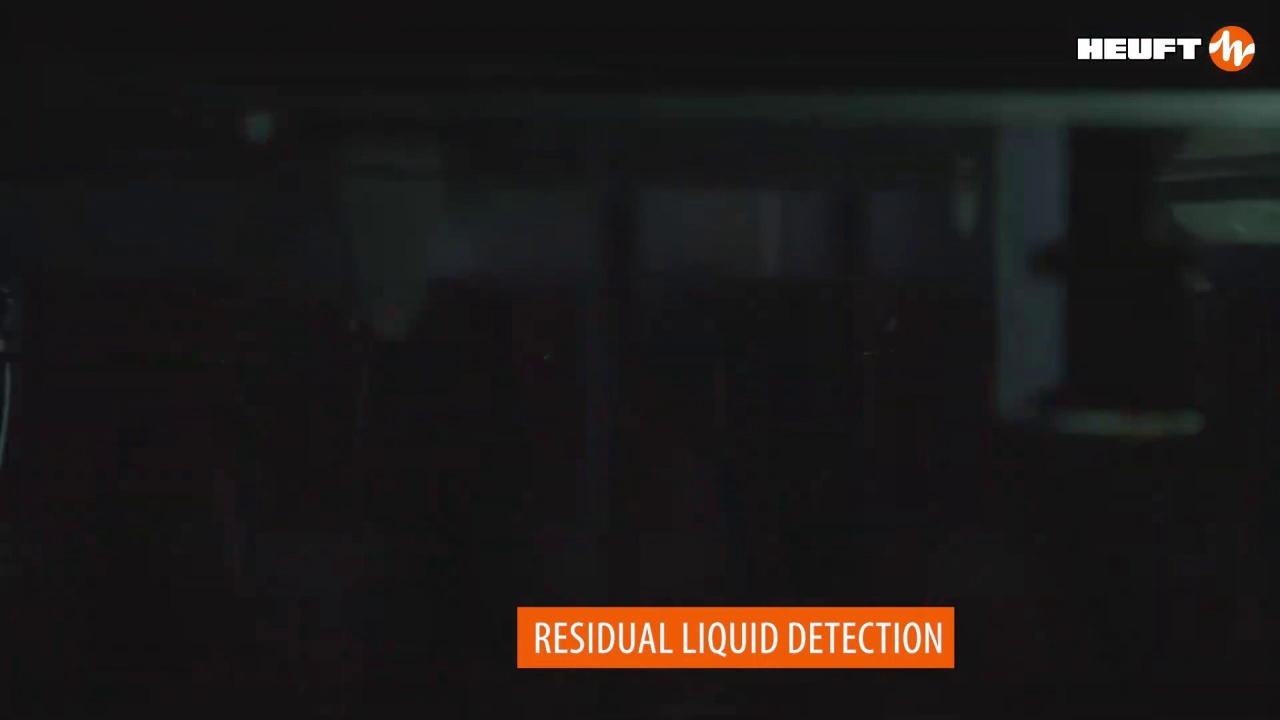bottle: (881, 150, 1090, 550), (427, 183, 578, 720), (566, 174, 712, 720), (711, 168, 897, 548), (1124, 130, 1278, 536)
